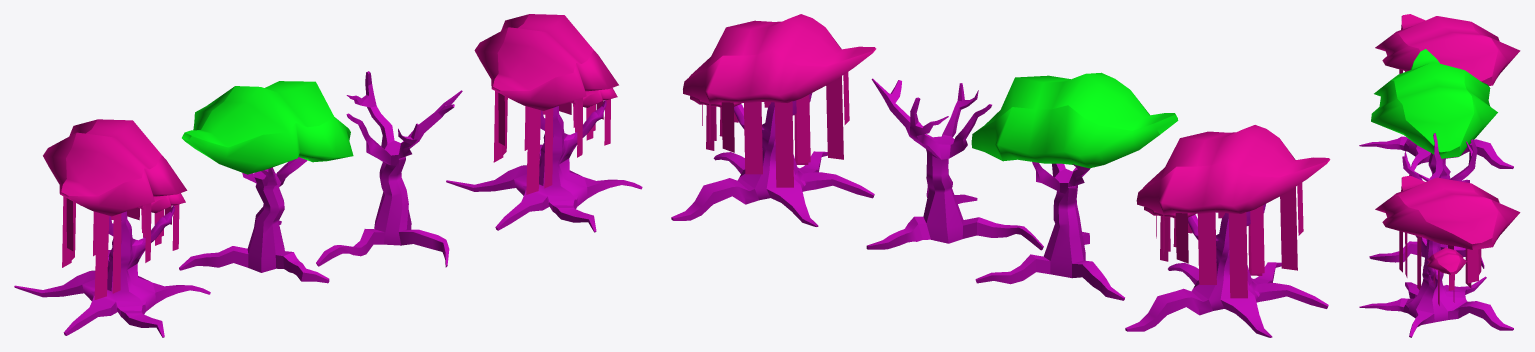
Rendered from Trees.fbx.
3 views of the same model, side by side, from view 1: azimuth 30°, elevation 25°; view 2: azimuth 150°, elevation 25°; view 3: azimuth 270°, elevation 25° (orthographic). The views are drawn at different scales.
Visible parts, largest first — view 1: polySurface53, polySurface22, polySurface29, pCylinder24, pCylinder25, polySurface30, polySurface50; view 2: polySurface53, polySurface22, polySurface29, pCylinder24, pCylinder25, polySurface30, polySurface50; view 3: polySurface53, polySurface29, polySurface22, pCylinder24, pCylinder25, polySurface30.
Boxes of the visible parts, <box> form: polySurface53: <box>446,14,642,232</box>; polySurface22: <box>43,119,187,299</box>; polySurface29: <box>182,81,353,174</box>; pCylinder24: <box>316,71,462,267</box>; pCylinder25: <box>14,205,210,337</box>; polySurface30: <box>179,157,329,283</box>; polySurface50: <box>138,193,185,250</box>; polySurface53: <box>671,14,876,226</box>; polySurface22: <box>1136,125,1330,298</box>; polySurface29: <box>971,72,1178,168</box>; pCylinder24: <box>866,78,1043,250</box>; pCylinder25: <box>1125,204,1328,337</box>; polySurface30: <box>975,162,1124,300</box>; polySurface50: <box>1144,207,1195,261</box>; polySurface53: <box>1359,175,1520,337</box>; polySurface29: <box>1371,49,1497,158</box>; polySurface22: <box>1375,14,1520,85</box>; pCylinder24: <box>1369,133,1484,268</box>; pCylinder25: <box>1359,136,1513,175</box>; polySurface30: <box>1428,153,1469,182</box>.
Size of the model in its own units: 54.39 by 16.64 by 17.
